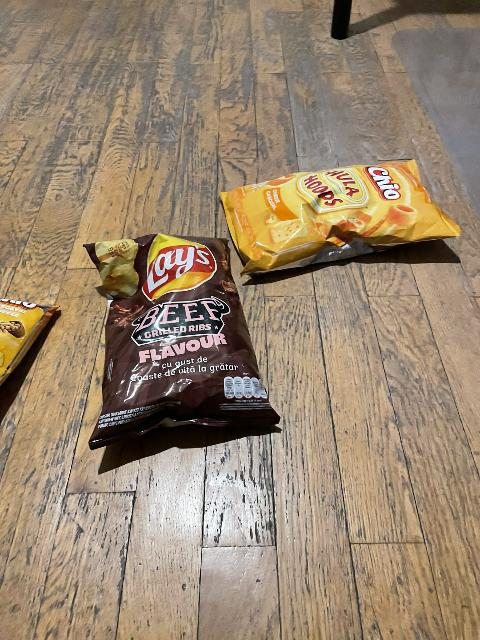Chio Cascaval 125g: (0, 299, 61, 399)
Chio Hula Hoops Cheese 70g: (219, 163, 449, 272)
Lays Beef Grilled Ribs 125g: (84, 239, 283, 443)
